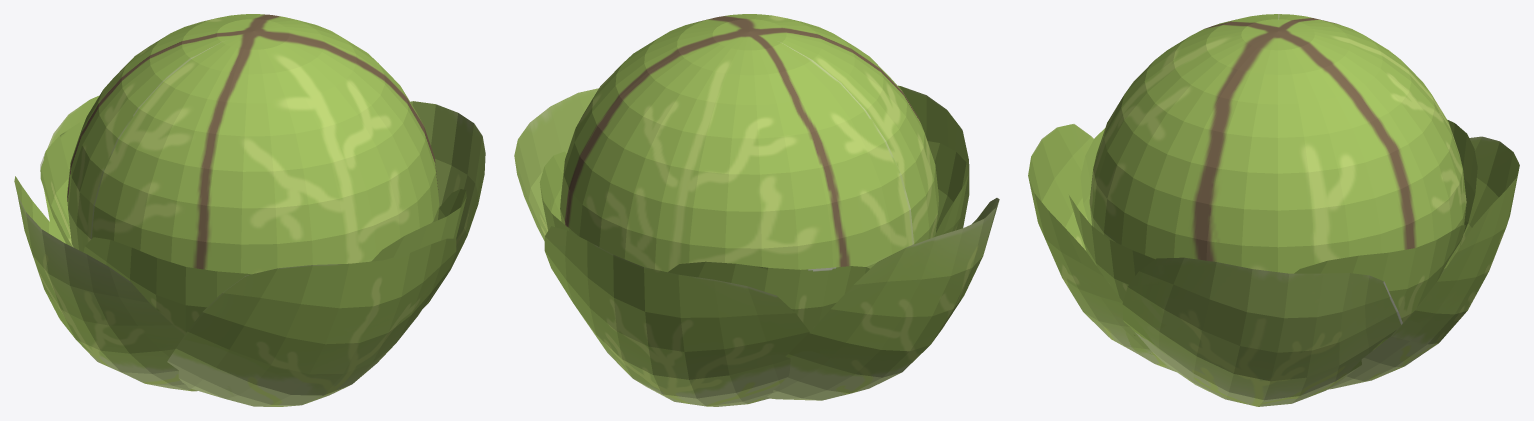
Rendered from cabbage.fbx.
3 renders of one model, left to right at view 1: azimuth 30°, elevation 25°; view 2: azimuth 150°, elevation 25°; view 3: azimuth 270°, elevation 25°, orthographic.
Parts seen in each view (by area): view 1: Цилиндр; view 2: Цилиндр; view 3: Цилиндр.
Boxes of the visible parts, x1,y1,x2,y2 form: Цилиндр: (14,14,485,406); Цилиндр: (514,14,999,406); Цилиндр: (1028,14,1519,406).
Bounding box in the file's own units: 233 × 177 × 227.
